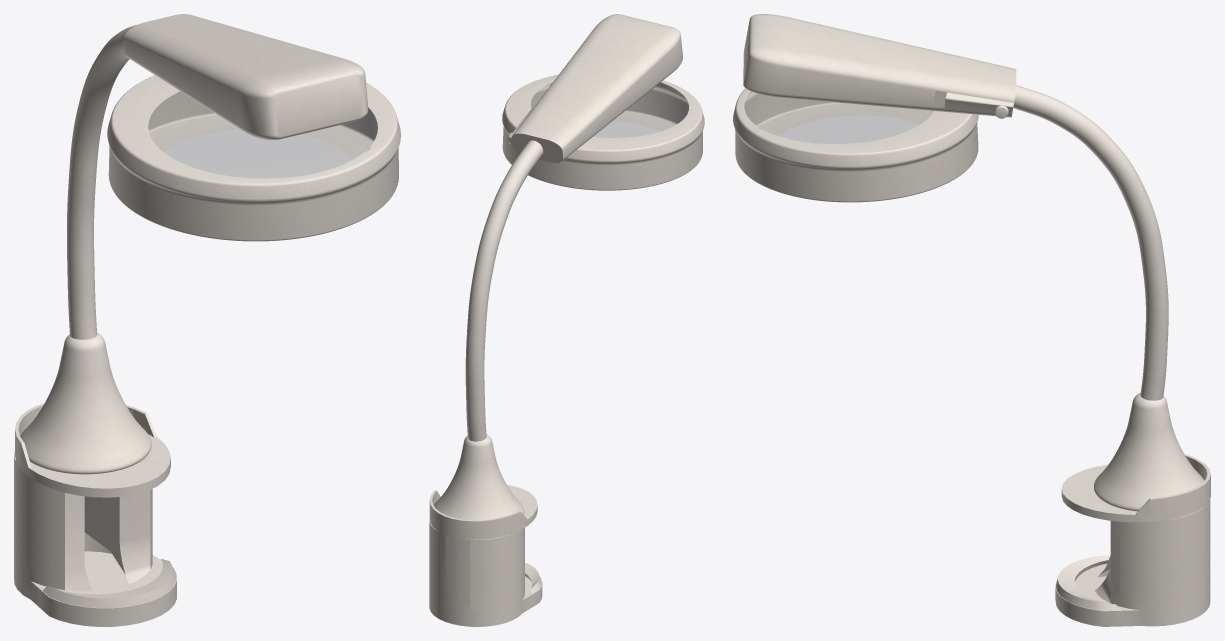
File: lighting_magnifying_lamp_1.glb
The picture shows the model from 3 angles, left to right: view 1: azimuth 30°, elevation 25°; view 2: azimuth 150°, elevation 25°; view 3: azimuth 270°, elevation 25°; orthographic projection. The views are drawn at different scales.
Visible parts, largest first — view 1: CURVED GOOSENECK ARM; view 2: CURVED GOOSENECK ARM; view 3: CURVED GOOSENECK ARM.
Part boxes in pixels (bbox=[...]): CURVED GOOSENECK ARM: bbox=[14, 14, 400, 626]; CURVED GOOSENECK ARM: bbox=[429, 14, 704, 626]; CURVED GOOSENECK ARM: bbox=[733, 14, 1210, 626].
Size of the model in its own units: 0.1225 by 0.3118 by 0.2381.
Materials: 2 (1 with a texture image).
